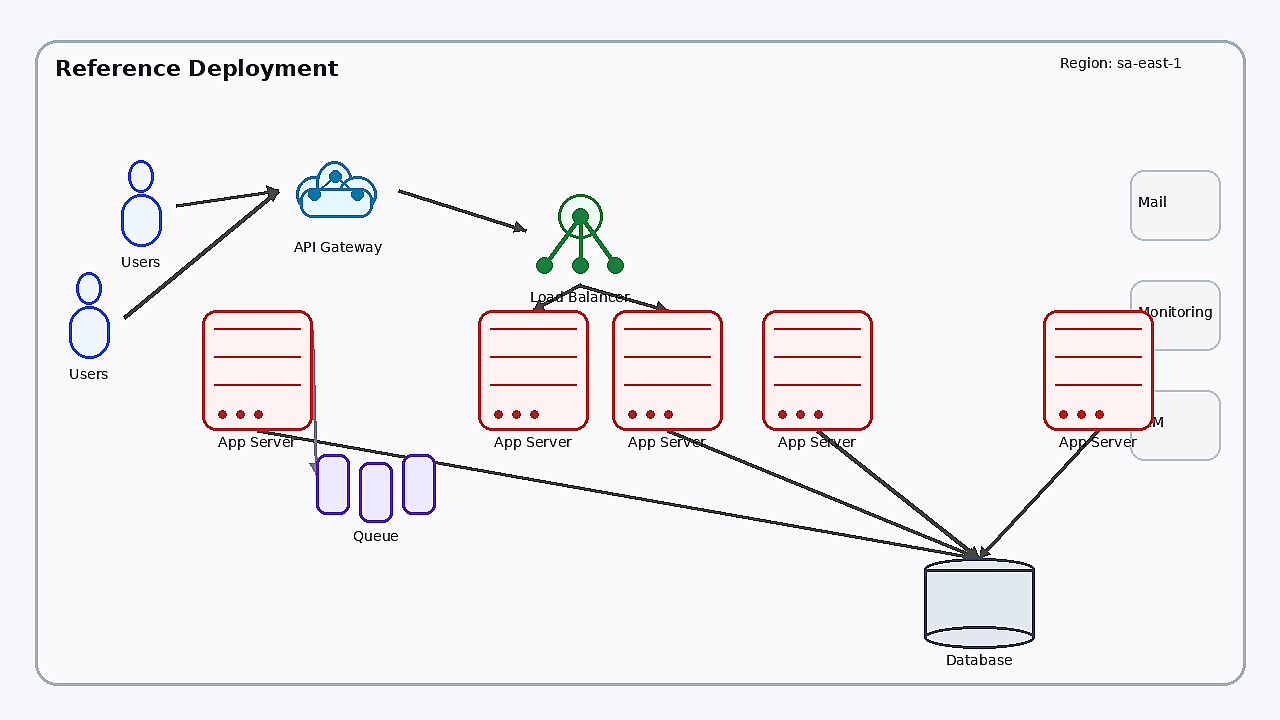API Gateway: (278, 145, 398, 235)
Application Server: (762, 310, 872, 430), (1043, 310, 1153, 430), (202, 310, 312, 430), (612, 310, 722, 430), (478, 310, 588, 430)
Database: (924, 558, 1034, 648)
Load Balancer: (525, 175, 635, 285)
Message Queue: (316, 454, 436, 524)
User: (54, 272, 124, 362), (106, 160, 176, 250)
